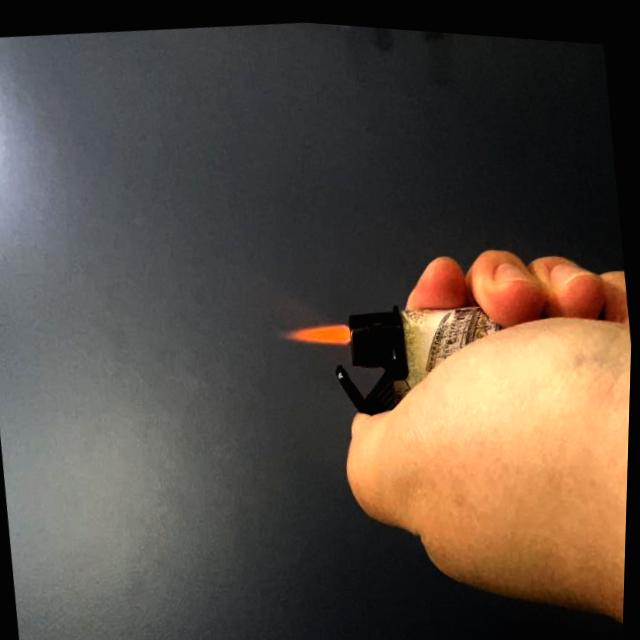Fire: (275, 306, 356, 350)
